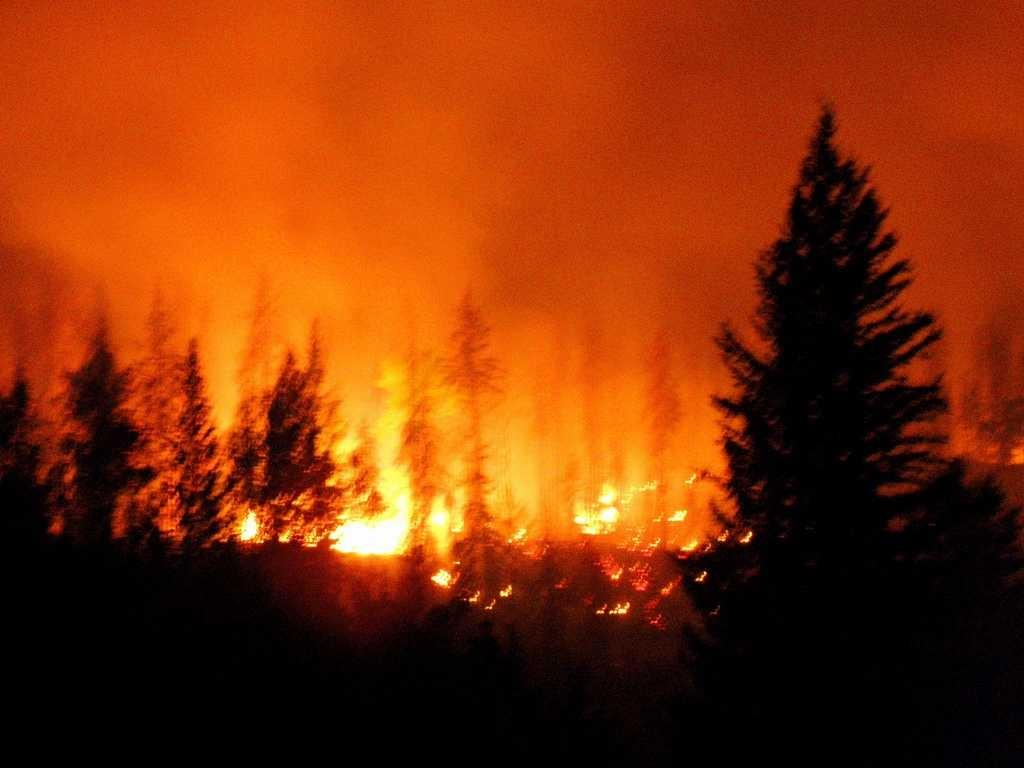fire: (330, 504, 416, 560), (570, 476, 632, 536)
